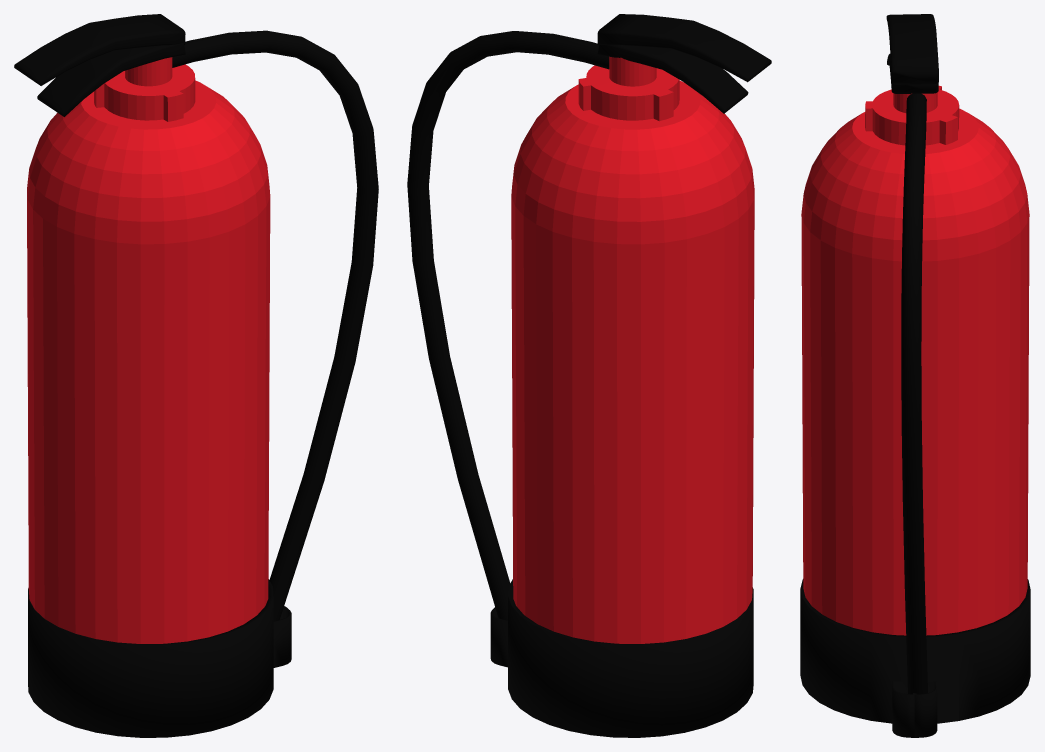
The model's file is pemadamapi2.fbx.
The picture shows the model from 3 angles, left to right: view 1: azimuth 30°, elevation 25°; view 2: azimuth 150°, elevation 25°; view 3: azimuth 270°, elevation 25°; orthographic projection. The views are drawn at different scales.
Parts seen in each view (by area): view 1: Sphere, BezierCurve; view 2: Sphere, BezierCurve; view 3: Sphere, BezierCurve.
Part boxes in pixels (x1,y1,x2,y2): Sphere: [14, 14, 291, 737]; BezierCurve: [172, 30, 378, 620]; Sphere: [490, 14, 771, 737]; BezierCurve: [407, 31, 609, 620]; Sphere: [800, 14, 1030, 737]; BezierCurve: [901, 93, 927, 694].
Bounding box in the file's own units: 111 × 201 × 67.13.
